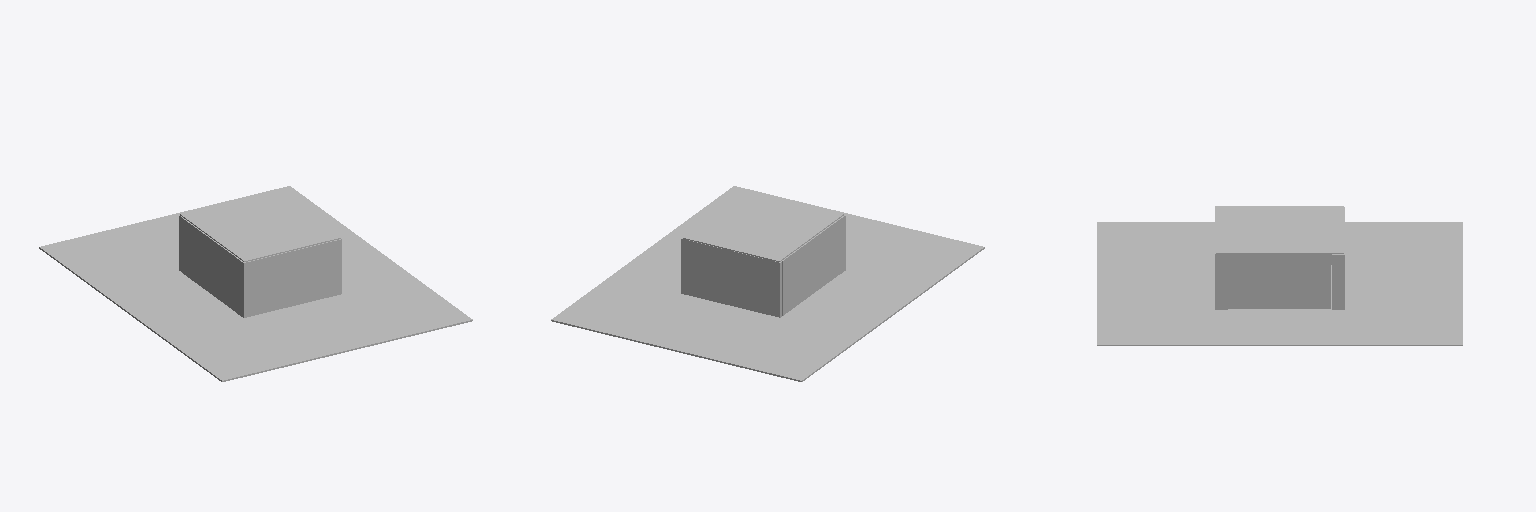
The model's file is 大罗测试.obj.
3 renders of one model, left to right at view 1: azimuth 30°, elevation 25°; view 2: azimuth 150°, elevation 25°; view 3: azimuth 270°, elevation 25°, orthographic.
Parts seen in each view (by area): view 1: down, up, men, 粒子右; view 2: down, up, 粒子左, 粒子右; view 3: down, up, 墙, men, 粒子左.
Part boxes in pixels (x1,y1,x2,y2): down: (39, 186, 472, 381); up: (180, 191, 340, 261); men: (237, 238, 341, 317); 粒子右: (181, 217, 237, 312); down: (551, 186, 984, 381); up: (683, 191, 843, 261); 粒子左: (681, 238, 785, 317); 粒子右: (782, 216, 842, 315); down: (1097, 222, 1462, 345); up: (1216, 206, 1343, 254); 墙: (1228, 254, 1330, 308); men: (1215, 206, 1227, 309); 粒子左: (1332, 207, 1344, 309).
Size of the model in its own units: 1663 by 366 by 2102.